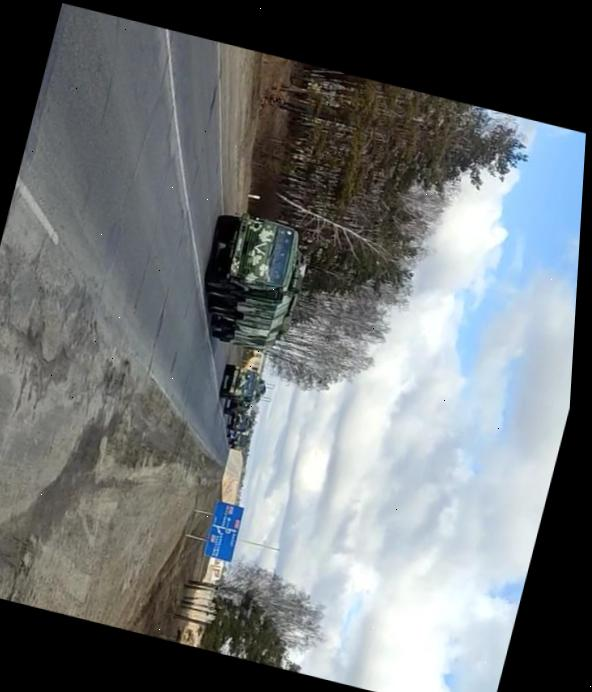truck: (175, 199, 323, 366), (213, 359, 270, 406), (220, 406, 257, 437)
